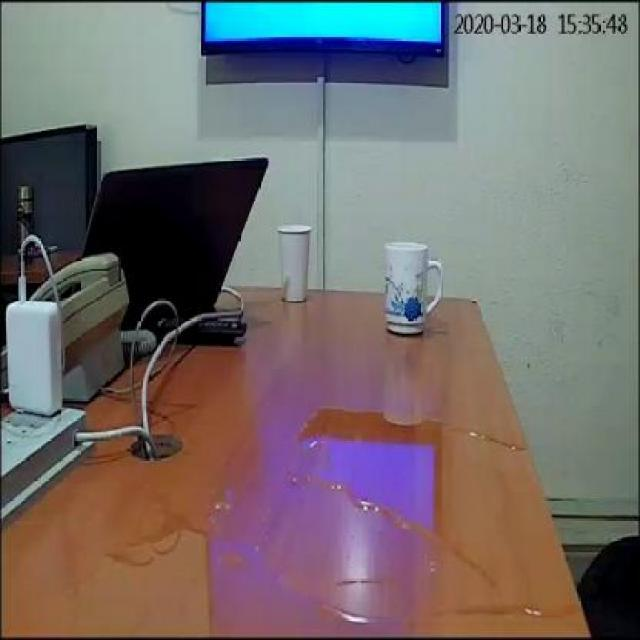spill: (302, 398, 570, 620), (44, 518, 388, 631)
